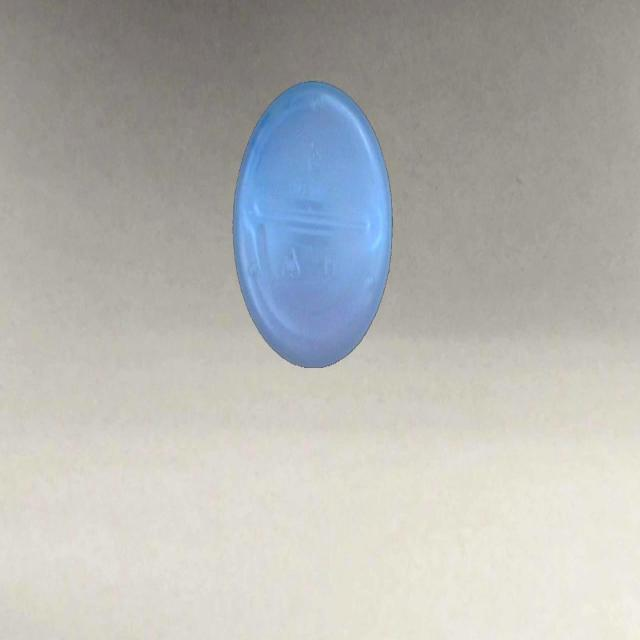bottle: (228, 78, 394, 372)
